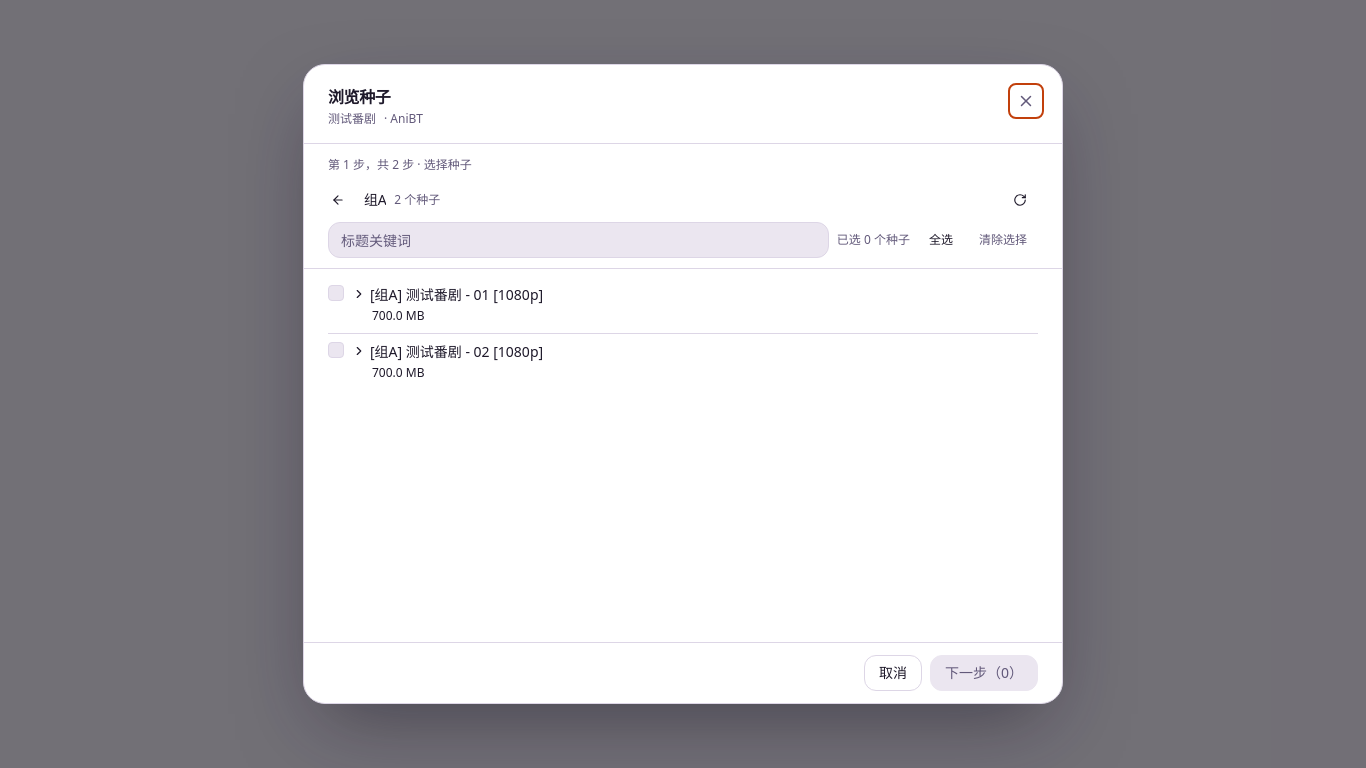
Test: OneShotDialog 第一步：种子目录 › 行内没有下载动作：只靠勾选加「下一步」进入第二步，只带勾选的种子
Expected: the button named "返回字幕组列表" is shown, [320,186,356,214]
Step 1. Click the checkbox named "[组A] 测试番剧 - 02 [1080p]" → (336, 350), box [328,342,344,358]
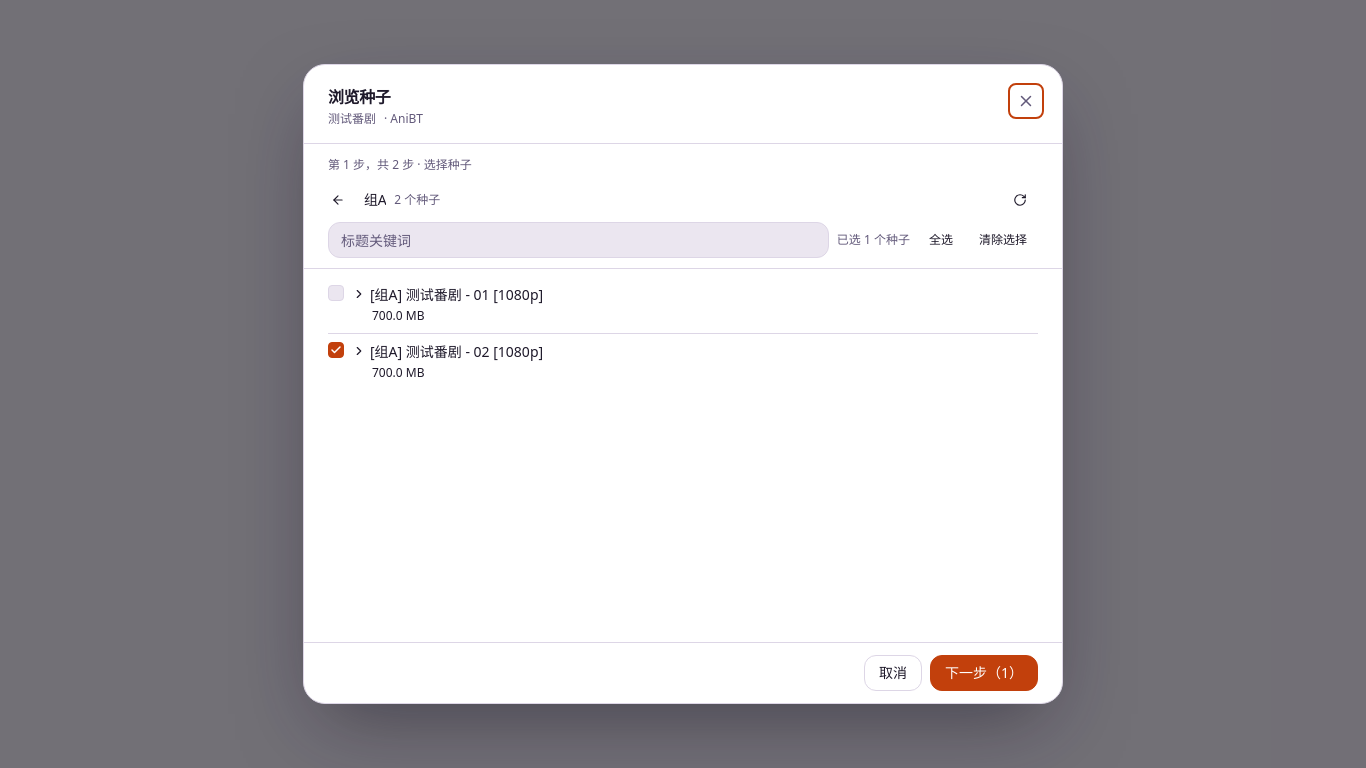
Step 2. Click the button "下一步（1）" → (984, 673), box [930,655,1038,691]
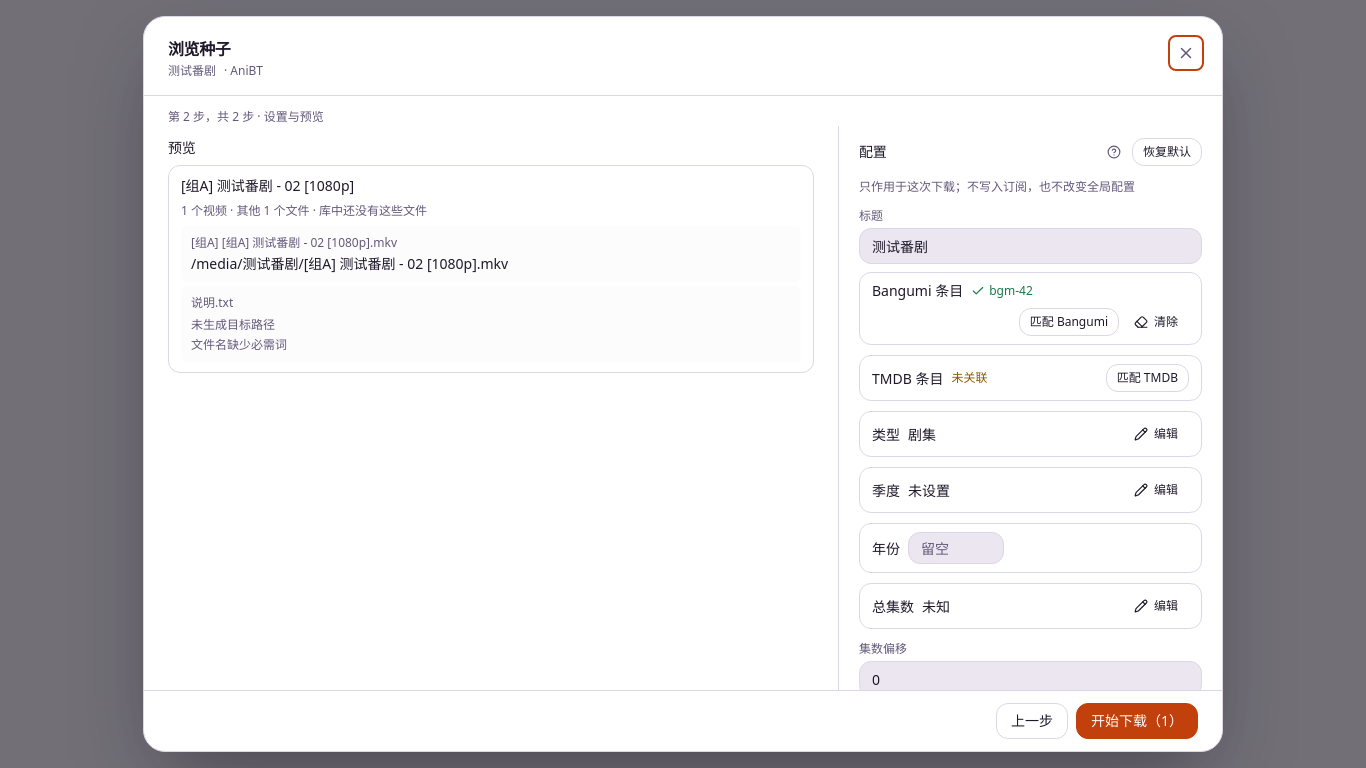
Expected: the heading "配置" is shown, [859,142,886,161]
